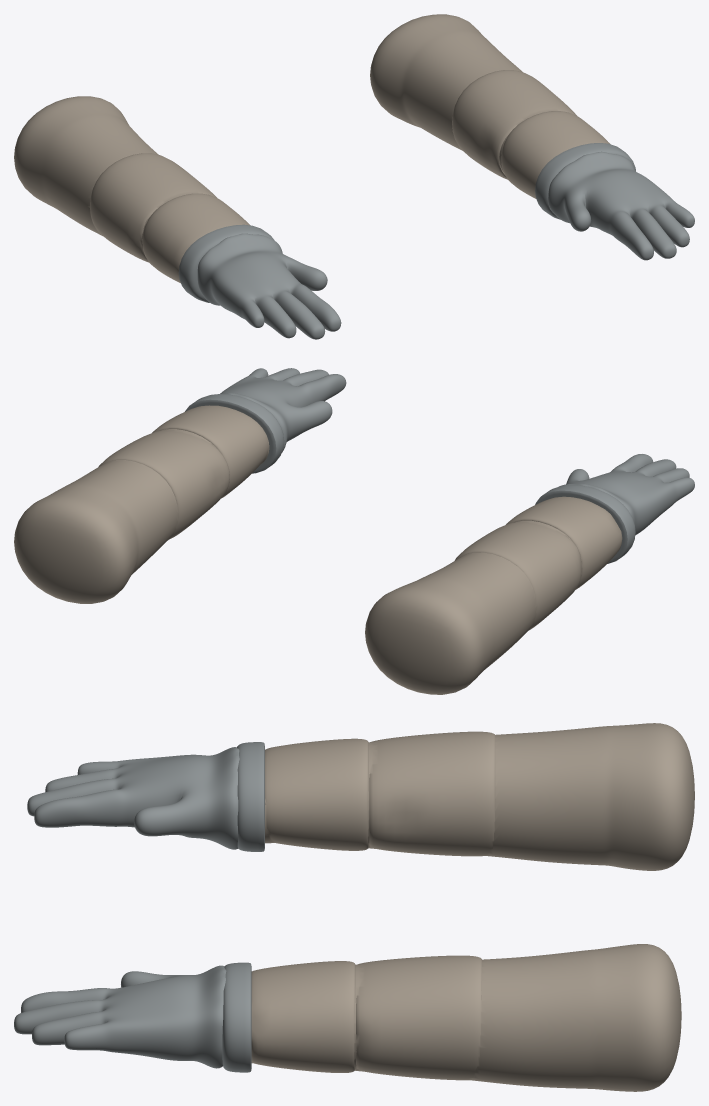
The model's file is hands.glb.
3 renders of one model, top to bottom at view 1: azimuth 30°, elevation 25°; view 2: azimuth 150°, elevation 25°; view 3: azimuth 270°, elevation 25°, orthographic. The views are drawn at different scales.
Parts seen in each view (by area): view 1: Cube.041; view 2: Cube.041; view 3: Cube.041.
Part boxes in pixels (x1,y1,x2,y2): Cube.041: [14, 14, 694, 339]; Cube.041: [14, 368, 694, 694]; Cube.041: [14, 723, 694, 1091].
Size of the model in its own units: 11.69 by 2.42 by 11.63.
